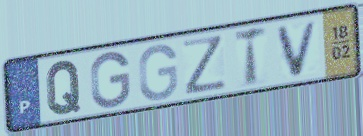G: (136, 42, 180, 103), (89, 49, 133, 110)
Q: (44, 58, 83, 118)
T: (233, 23, 269, 89)
V: (274, 17, 322, 80)
Z: (181, 33, 230, 98)
